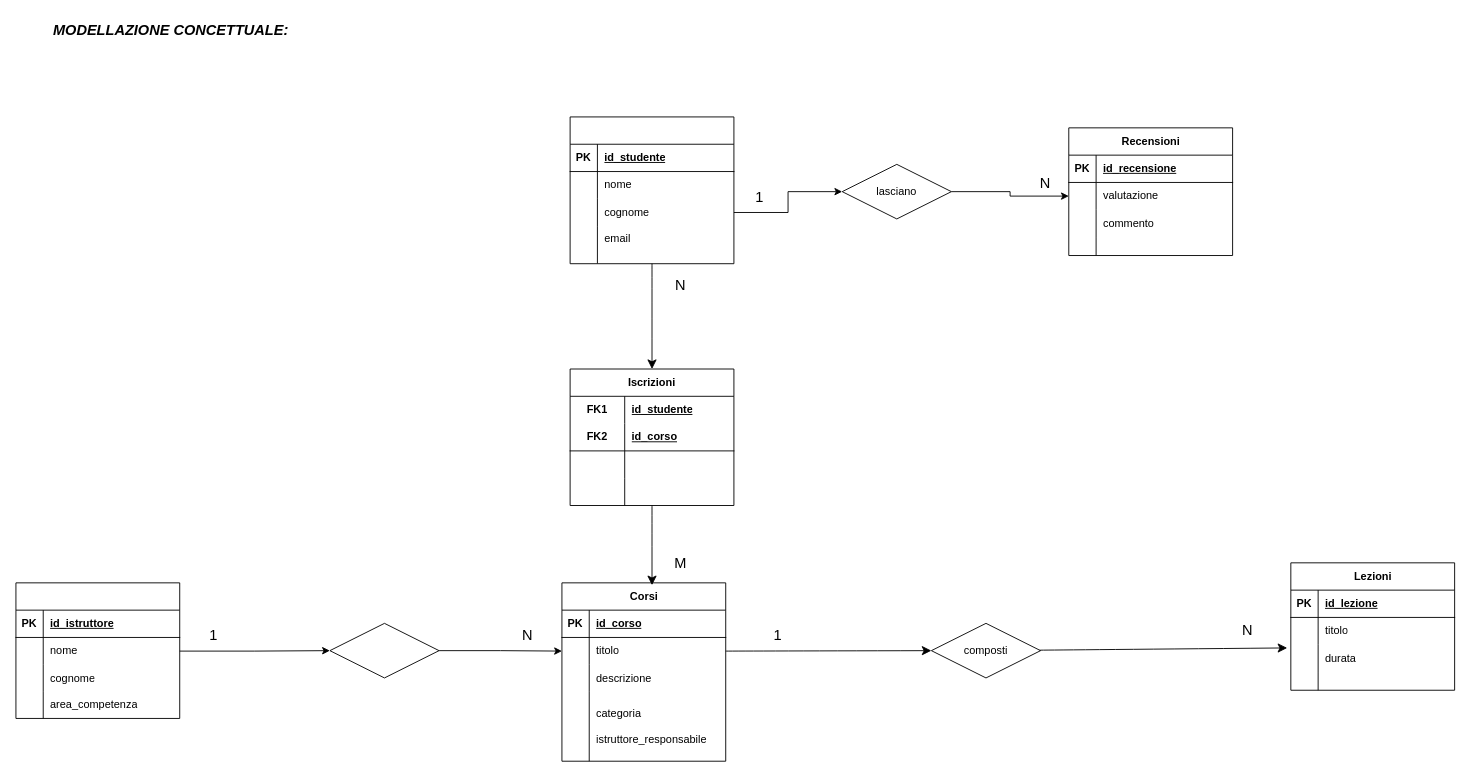
This 1471x777 diagram has some shape labels left out. Here are the shapes that lost their labels. From the top down, the box of each, then its label:
(569, 116, 734, 264): Studenti
(15, 582, 180, 718): Istruttori
(329, 622, 439, 678): tengono
